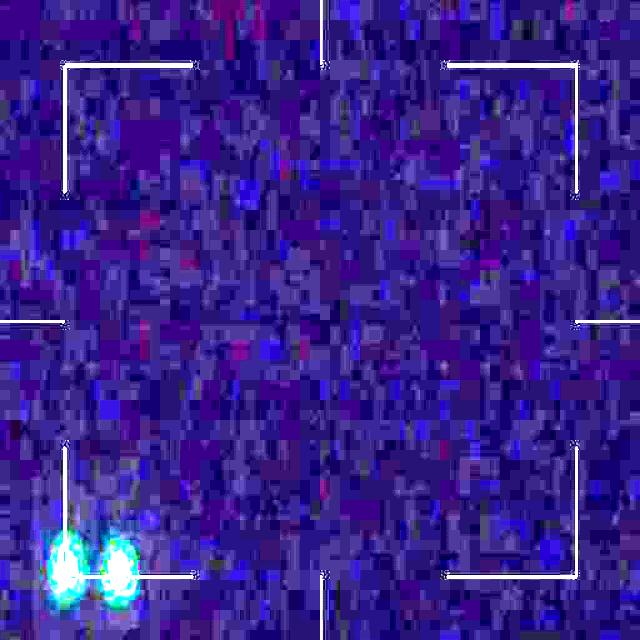bird: (52, 545, 132, 599)
